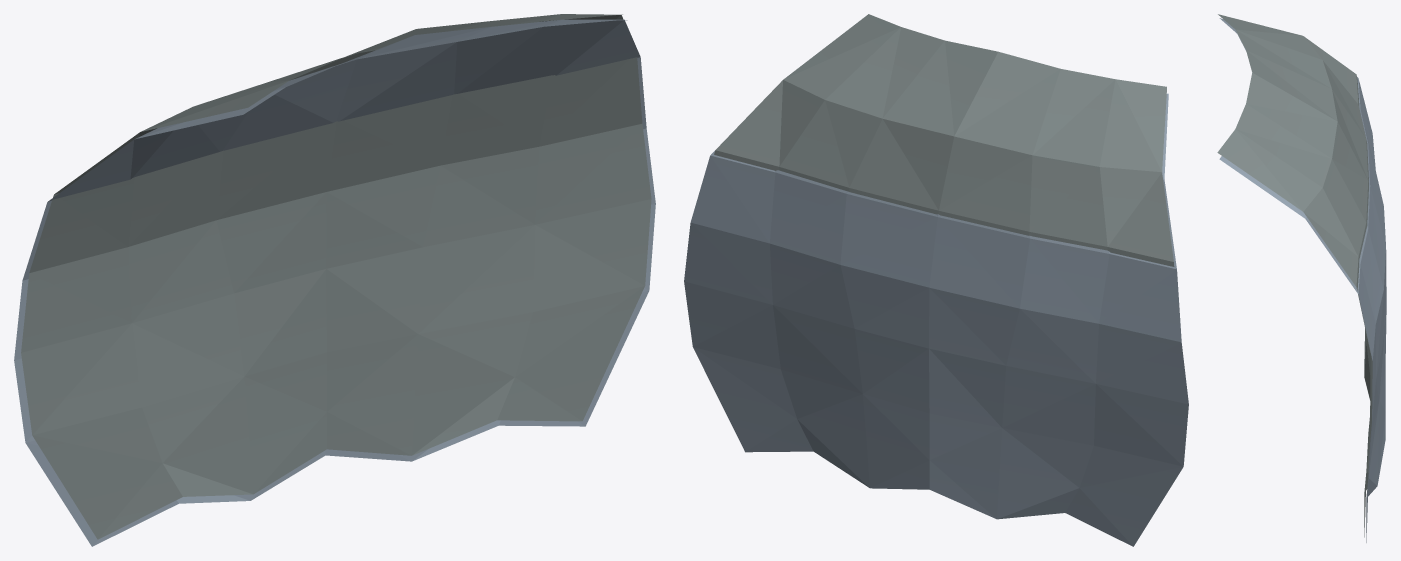
The model's file is elfo_capa_2.glb.
3 views of the same model, side by side, from view 1: azimuth 30°, elevation 25°; view 2: azimuth 150°, elevation 25°; view 3: azimuth 270°, elevation 25° (orthographic). The views are drawn at different scales.
Visible parts, largest first — view 1: elfo_capa_2; view 2: elfo_capa_2; view 3: elfo_capa_2.
Part boxes in pixels (left/top/right/bottom): elfo_capa_2: left=14, top=14, right=655, bottom=546; elfo_capa_2: left=684, top=14, right=1188, bottom=546; elfo_capa_2: left=1217, top=14, right=1386, bottom=542.
Bounding box in the file's own units: 1.14 × 0.8685 × 0.3466.
1 material, 1 textured.
